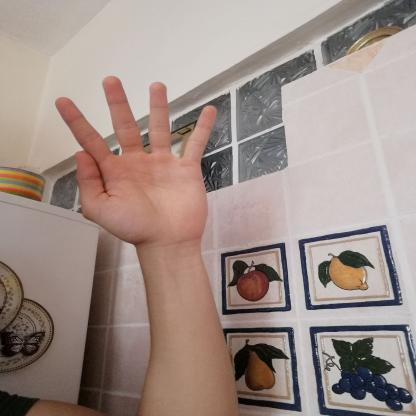SHEEN: (41, 67, 241, 254)
